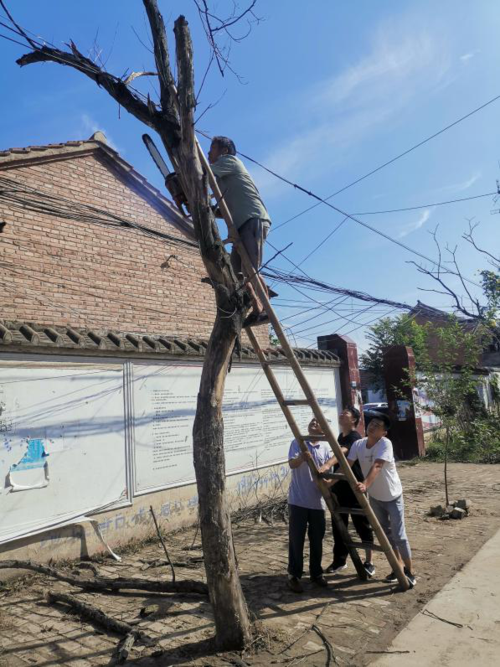安全帽、安全绳，工作服均未佩戴的工作人员: (205, 135, 283, 330)
安全帽、工作服均未穿戴的工作人员: (282, 400, 415, 597)
